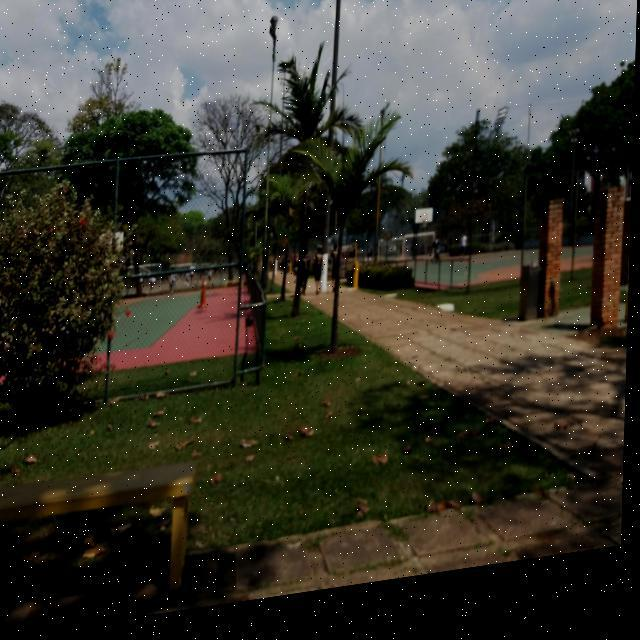Fire: (382, 217, 413, 250)
